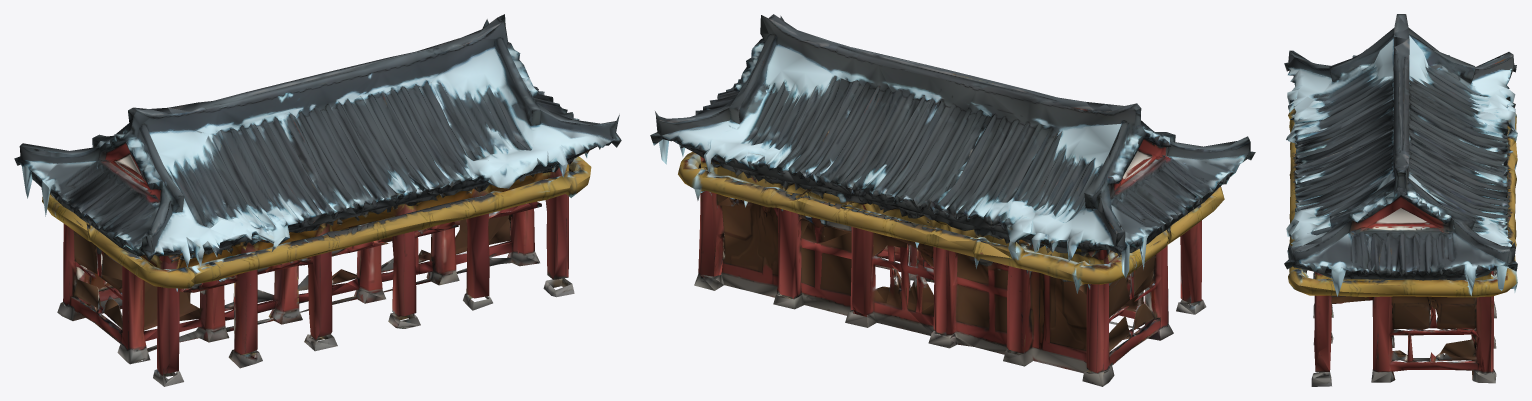
File: NMJ_Haenggak.fbx
The picture shows the model from 3 angles, left to right: view 1: azimuth 30°, elevation 25°; view 2: azimuth 150°, elevation 25°; view 3: azimuth 270°, elevation 25°; orthographic projection. The views are drawn at different scales.
Parts seen in each view (by area): view 1: NMJ_Haenggak; view 2: NMJ_Haenggak; view 3: NMJ_Haenggak.
Boxes of the visible parts, left/top/right/bottom form: NMJ_Haenggak: left=14, top=14, right=621, bottom=386; NMJ_Haenggak: left=650, top=14, right=1255, bottom=386; NMJ_Haenggak: left=1284, top=14, right=1517, bottom=386.
Size of the model in its own units: 17.6 by 8.61 by 8.66.
